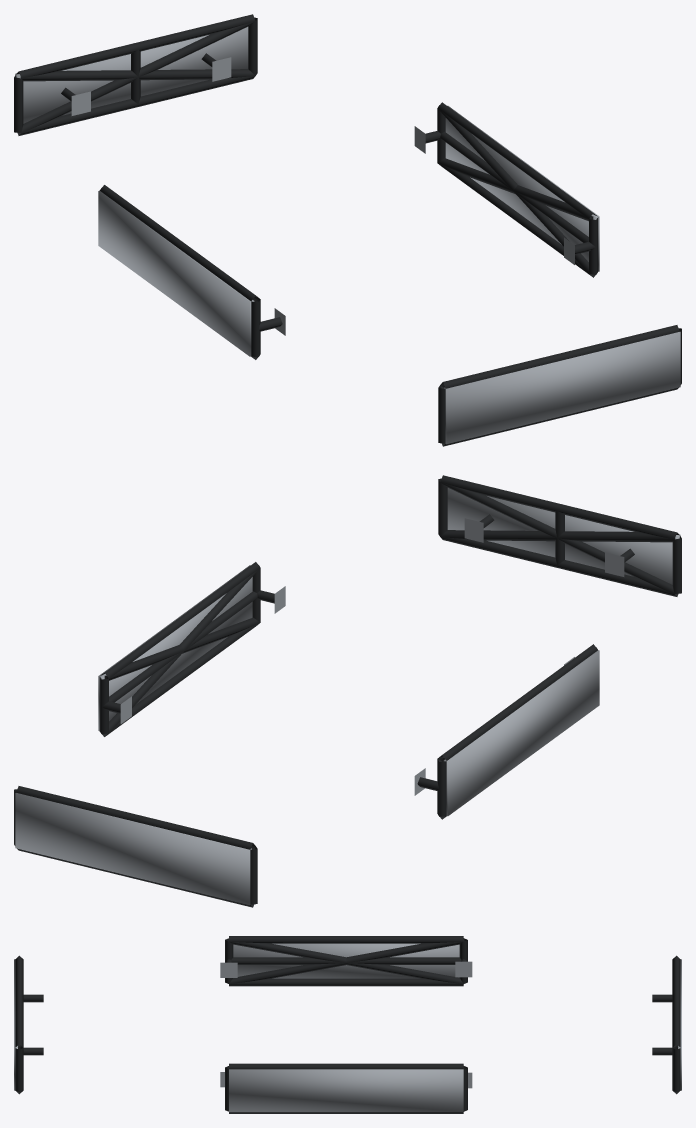
Rendered from varenna_sorva_protecao.glb.
The picture shows the model from 3 angles, top to bottom: view 1: azimuth 30°, elevation 25°; view 2: azimuth 150°, elevation 25°; view 3: azimuth 270°, elevation 25°; orthographic projection. The views are drawn at different scales.
Visible parts, largest first — view 1: Protection_front_Level3_Details, Protection_left_Level3_Details, Protection_rear_Level1_Details, Protection_rear_Level3_Details, Protection_right_Level1_Details, Protection_rear_Level2_Details, Protection_right_Level2_Details, Protection_right_Level3_Details, Protection_front_Level1_Details, Protection_left_Level1_Details; view 2: Protection_rear_Level3_Details, Protection_left_Level3_Details, Protection_front_Level1_Details, Protection_front_Level3_Details, Protection_right_Level1_Details, Protection_front_Level2_Details, Protection_right_Level2_Details, Protection_right_Level3_Details, Protection_rear_Level1_Details, Protection_left_Level1_Details; view 3: Protection_right_Level3_Details, Protection_left_Level1_Details, Protection_left_Level2_Details, Protection_left_Level3_Details, Protection_right_Level1_Details, Protection_rear_Level1_Details, Protection_front_Level1_Details.
Part boxes in pixels (box(x1,y1,x2,y2)): Protection_front_Level3_Details: box(444, 332, 680, 444); Protection_left_Level3_Details: box(98, 190, 254, 356); Protection_rear_Level1_Details: box(14, 14, 257, 135); Protection_rear_Level3_Details: box(15, 27, 248, 123); Protection_right_Level1_Details: box(414, 102, 598, 277); Protection_rear_Level2_Details: box(16, 21, 254, 134); Protection_right_Level2_Details: box(437, 109, 596, 276); Protection_right_Level3_Details: box(445, 105, 599, 271); Protection_front_Level1_Details: box(438, 325, 681, 446); Protection_left_Level1_Details: box(100, 185, 285, 359); Protection_rear_Level3_Details: box(15, 793, 251, 905); Protection_left_Level3_Details: box(443, 650, 599, 816); Protection_front_Level1_Details: box(438, 475, 681, 596); Protection_front_Level3_Details: box(447, 488, 680, 584); Protection_right_Level1_Details: box(99, 562, 285, 736); Protection_front_Level2_Details: box(441, 482, 679, 595); Protection_right_Level2_Details: box(100, 568, 260, 736); Protection_right_Level3_Details: box(98, 565, 252, 731); Protection_rear_Level1_Details: box(14, 786, 257, 907); Protection_left_Level1_Details: box(414, 644, 597, 819); Protection_right_Level3_Details: box(229, 1069, 463, 1112); Protection_left_Level1_Details: box(220, 936, 472, 986); Protection_left_Level2_Details: box(228, 938, 464, 984); Protection_left_Level3_Details: box(233, 943, 459, 978); Protection_right_Level1_Details: box(220, 1063, 472, 1113); Protection_rear_Level1_Details: box(652, 955, 680, 1094); Protection_front_Level1_Details: box(15, 955, 43, 1094).
Size of the model in its own units: 2 by 0.354 by 4.27.
Materials: 1 (1 with a texture image).
